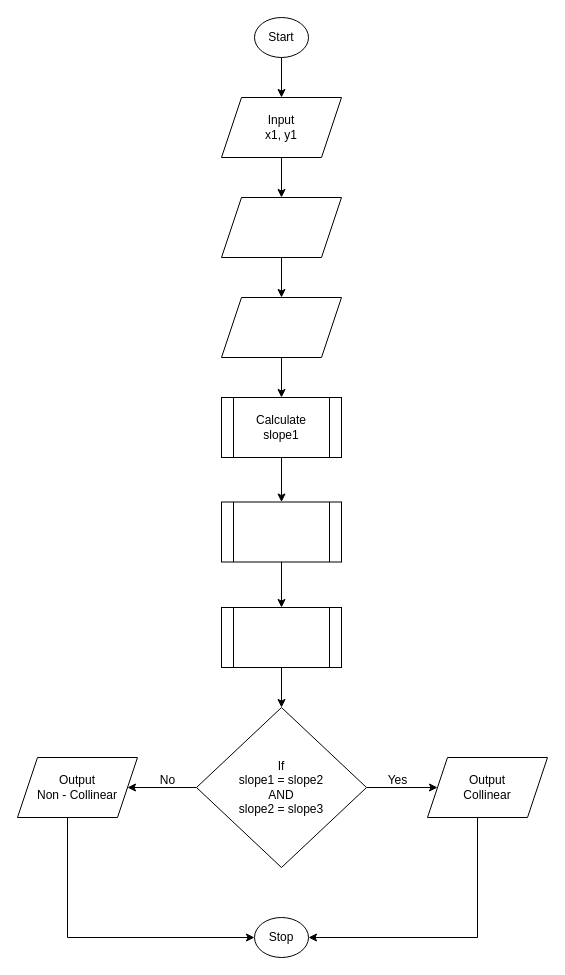
Image size: 565x975. Some labels were removed from this diagram. Each missing label, with the centre of its shape:
Calculate slope2: (281,531)
Calculate slope3: (281,637)
Input x2, y2: (281,227)
Input x3, y3: (281,327)
